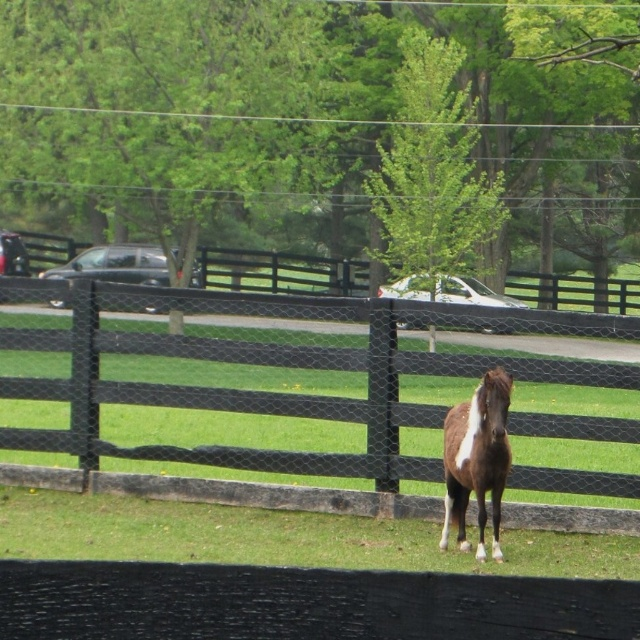Horse: (437, 364, 514, 564)
